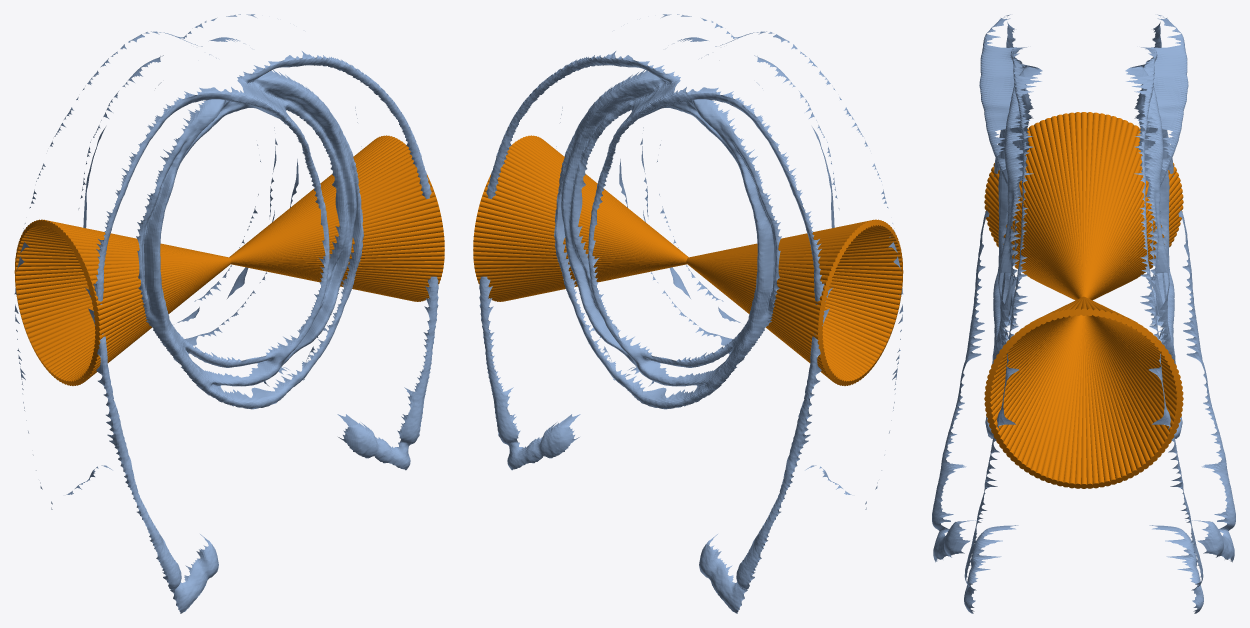
File: A60024620_6150-37-520-2145_DigitalTwin.glb
3 renders of one model, left to right at view 1: azimuth 30°, elevation 25°; view 2: azimuth 150°, elevation 25°; view 3: azimuth 270°, elevation 25°, orthographic. The views are drawn at different scales.
Parts seen in each view (by area): view 1: world; view 2: world; view 3: world.
Part boxes in pixels (box(x1,y1,x2,y2)): world: box(14, 14, 444, 613); world: box(473, 14, 903, 613); world: box(932, 14, 1235, 613).
Size of the model in its own units: 251 by 341 by 162.
